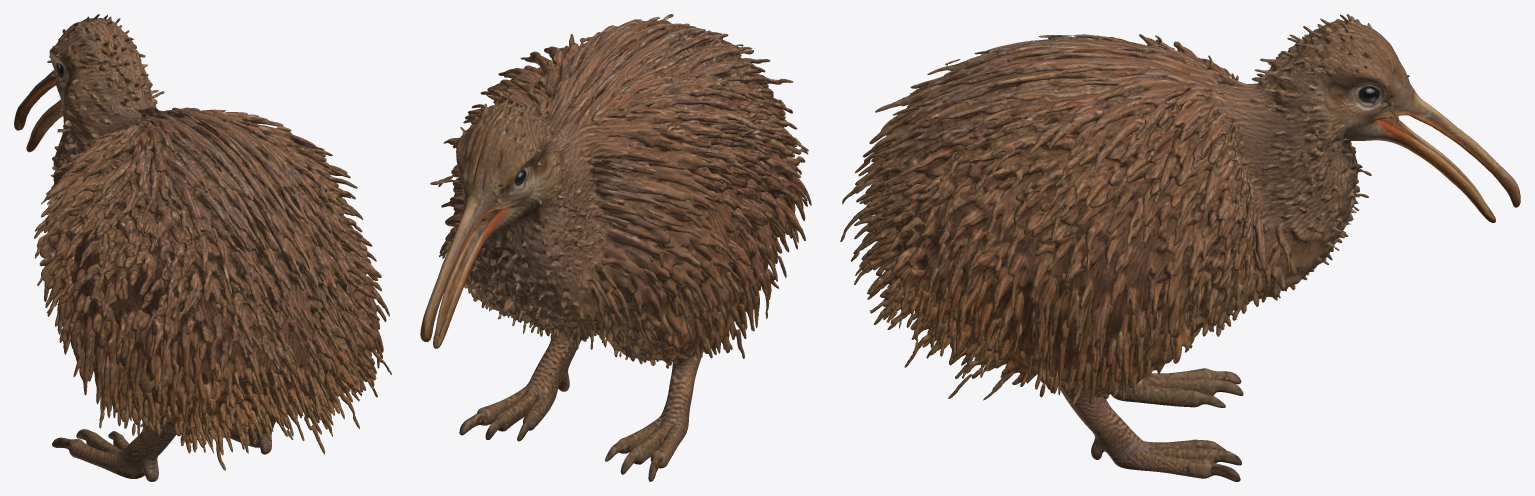
The model's file is kiwi.glb.
3 renders of one model, left to right at view 1: azimuth 30°, elevation 25°; view 2: azimuth 150°, elevation 25°; view 3: azimuth 270°, elevation 25°, orthographic. The views are drawn at different scales.
Visible parts, largest first — view 1: tripo_node_9a9eb6aa-d31f-4110-8593-5afa53c23a88_0; view 2: tripo_node_9a9eb6aa-d31f-4110-8593-5afa53c23a88_0; view 3: tripo_node_9a9eb6aa-d31f-4110-8593-5afa53c23a88_0.
Part boxes in pixels (left/top/right/bottom): tripo_node_9a9eb6aa-d31f-4110-8593-5afa53c23a88_0: left=14, top=14, right=391, bottom=481; tripo_node_9a9eb6aa-d31f-4110-8593-5afa53c23a88_0: left=420, top=14, right=811, bottom=481; tripo_node_9a9eb6aa-d31f-4110-8593-5afa53c23a88_0: left=840, top=14, right=1520, bottom=481.
Size of the model in its own units: 0.5344 by 0.6798 by 1.
Materials: 1 (1 with a texture image).
